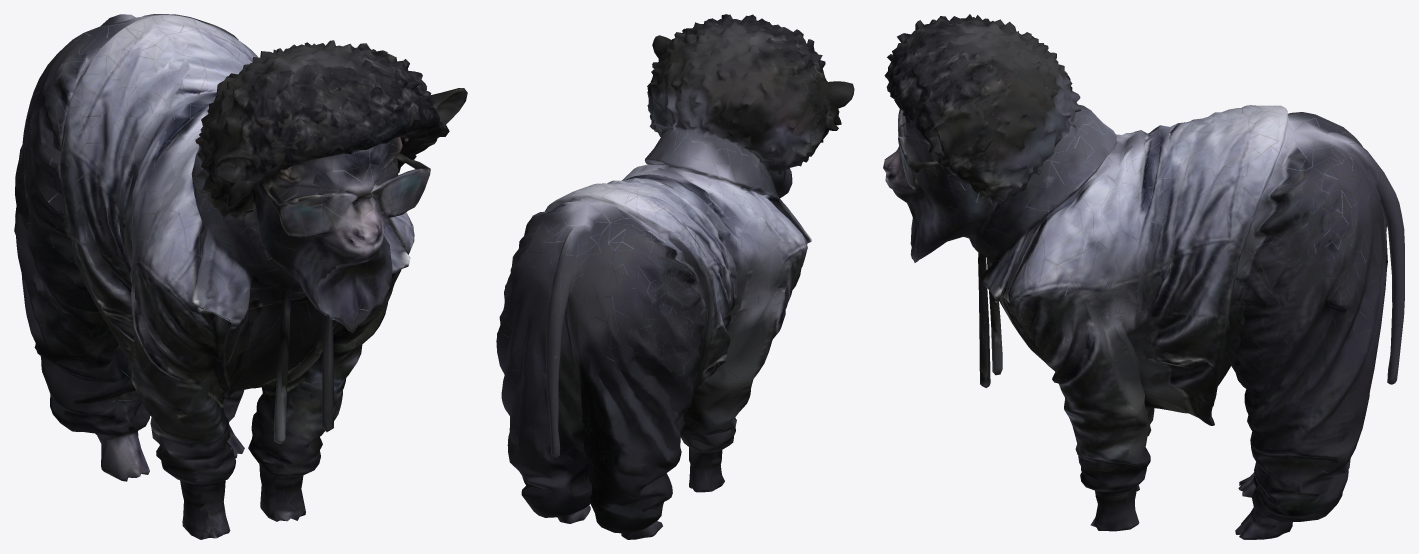
File: chevre.glb
3 renders of one model, left to right at view 1: azimuth 30°, elevation 25°; view 2: azimuth 150°, elevation 25°; view 3: azimuth 270°, elevation 25°, orthographic. The views are drawn at different scales.
Parts seen in each view (by area): view 1: chevre; view 2: chevre; view 3: chevre.
Part boxes in pixels (x1=…): chevre: x1=14, y1=14, x2=467, y2=539; chevre: x1=496, y1=14, x2=854, y2=539; chevre: x1=883, y1=14, x2=1404, y2=539.
Size of the model in its own units: 1 by 1.96 by 1.95.
Materials: 1 (1 with a texture image).
